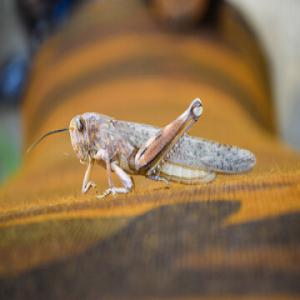locust: (59, 80, 253, 207)
